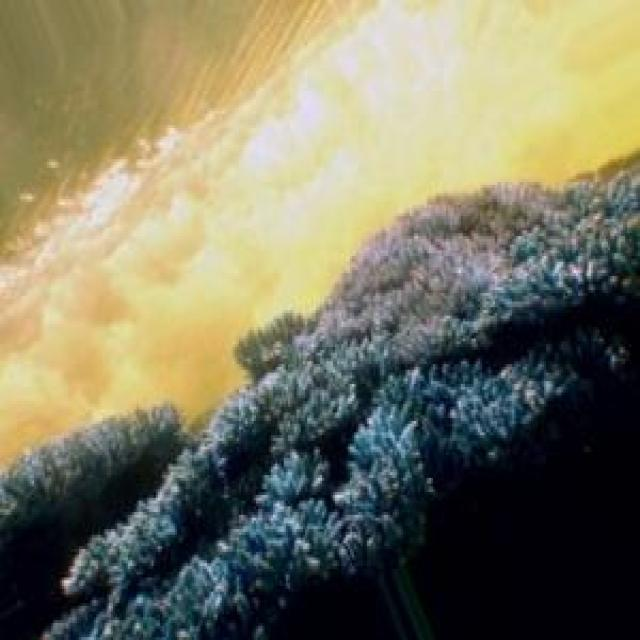Healthy: (1, 163, 640, 640)
